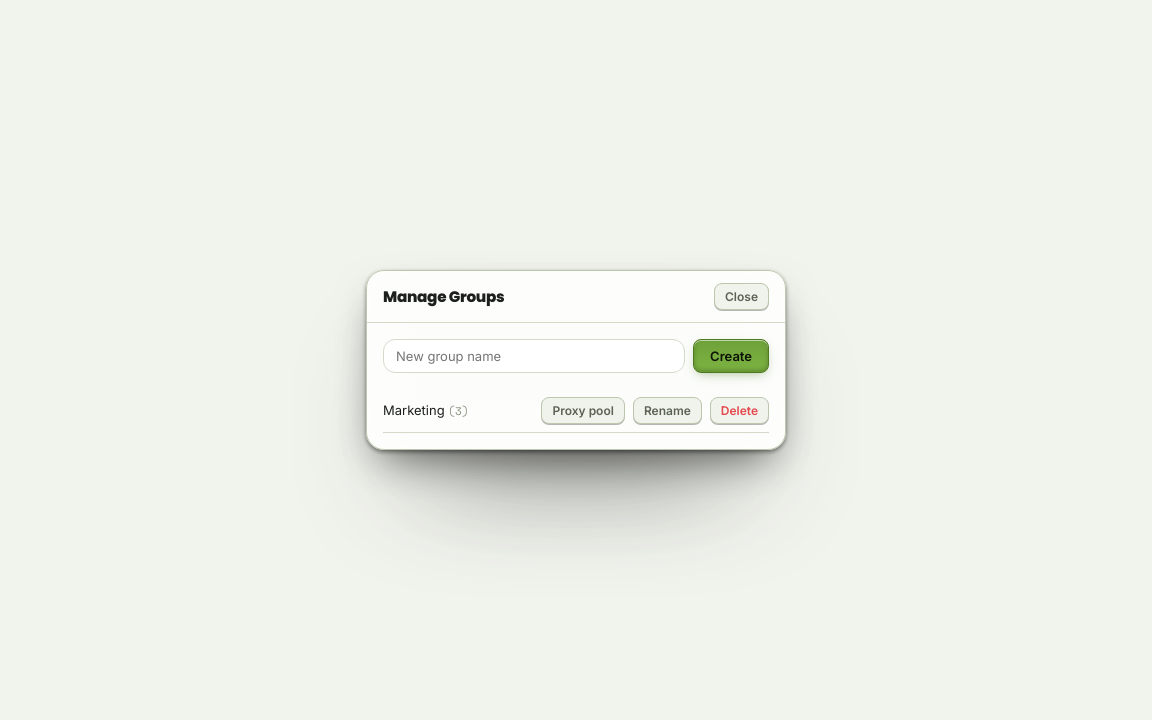
Scenario: GroupsModal › clicking Proxy pool again while open collapses it without a new fetch
Click the button "Proxy pool" at (583, 410), box [541, 397, 625, 424]
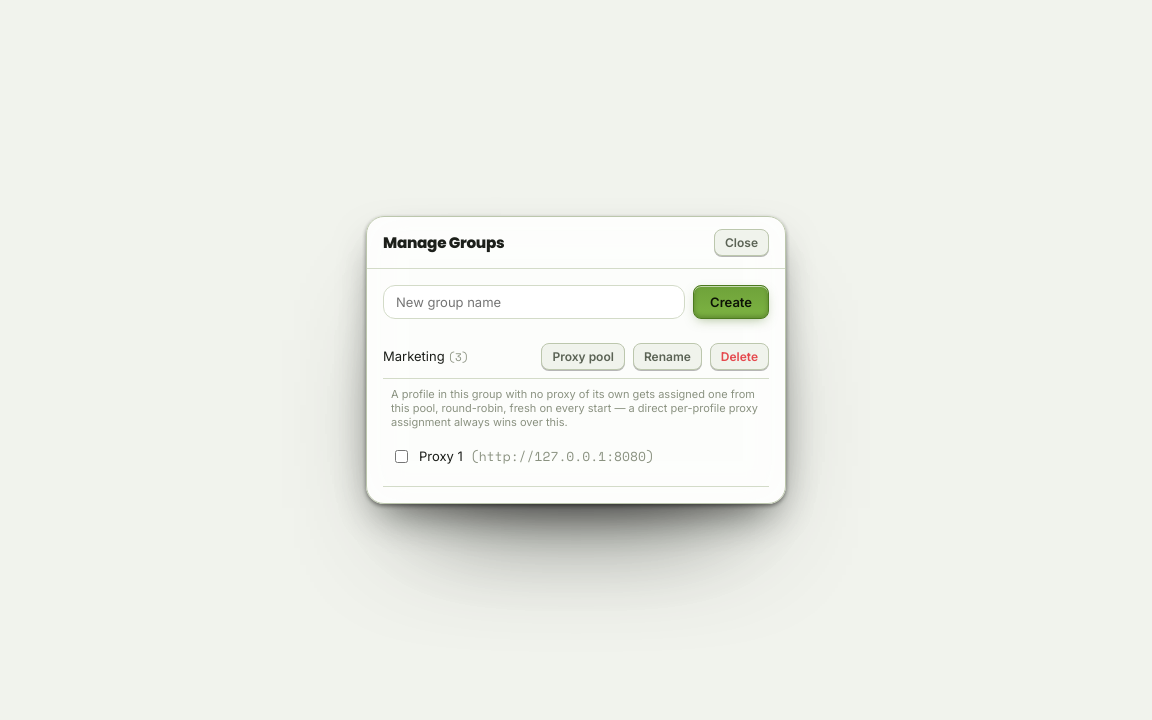
Click the button "Proxy pool" at (583, 356), box [541, 343, 625, 370]
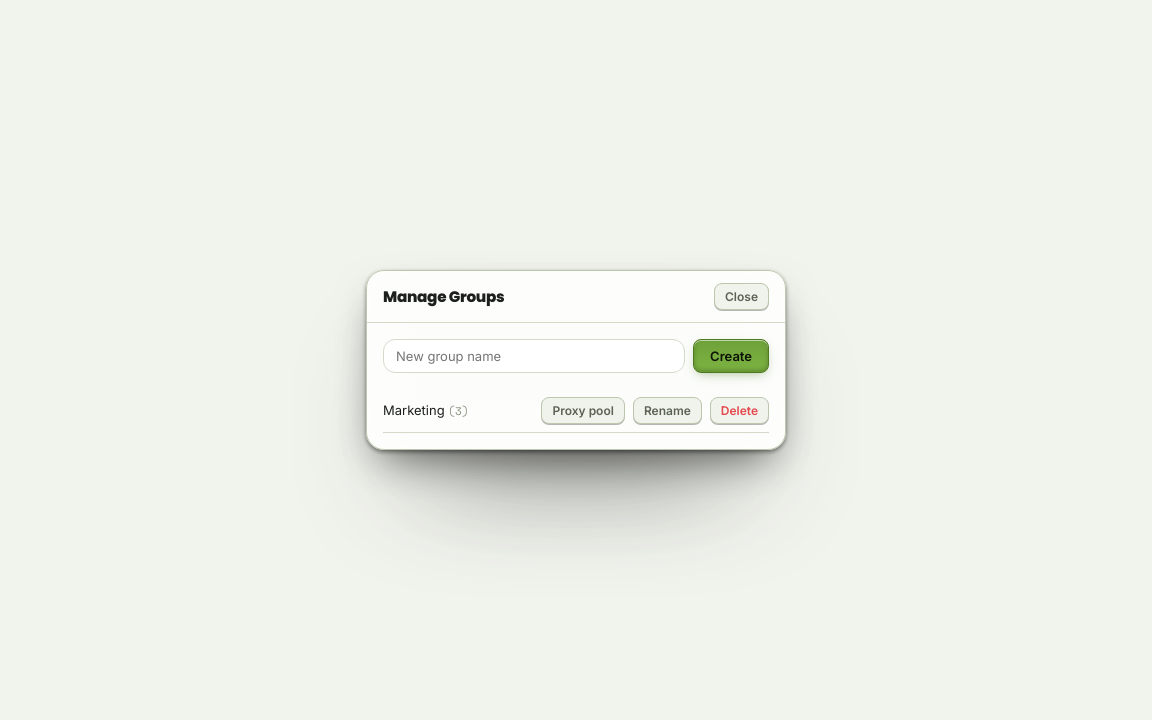
Result: the checkbox is gone
